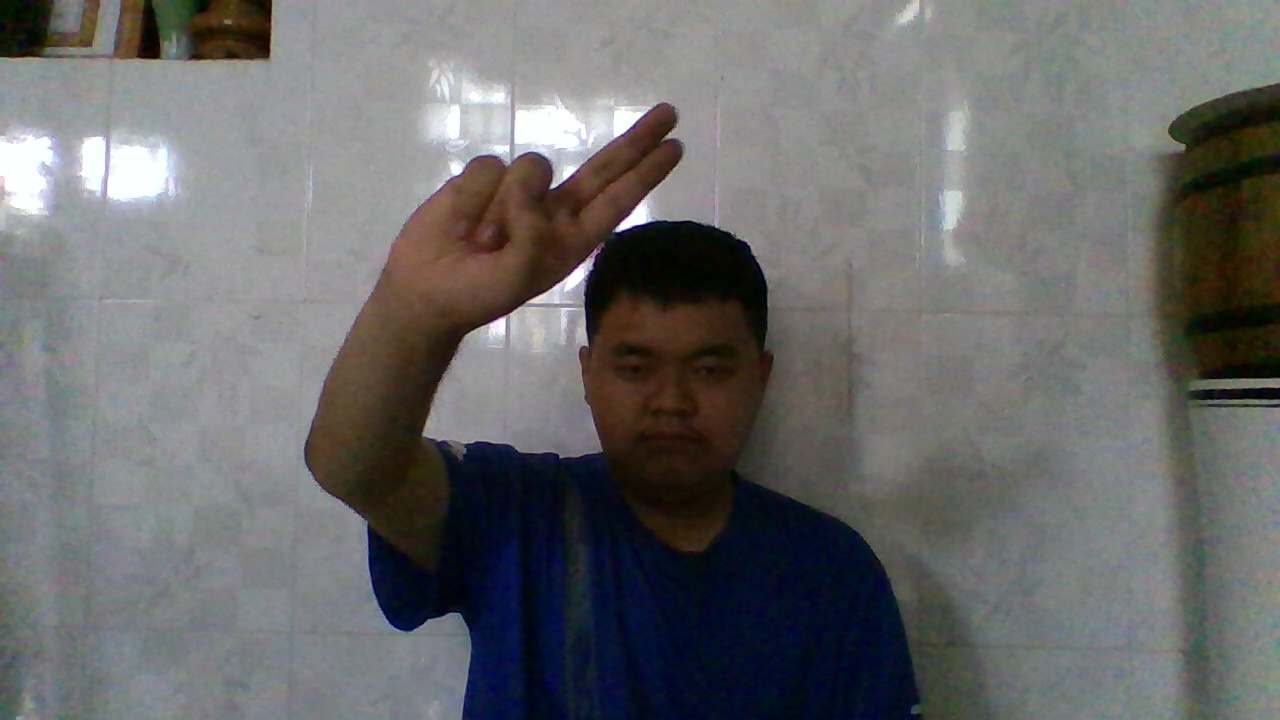U: (403, 98, 687, 323)
